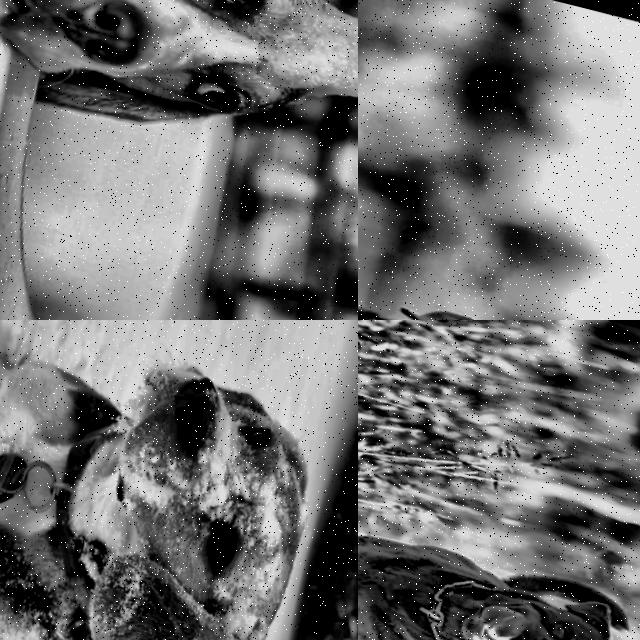beagle: (6, 320, 358, 640), (0, 0, 358, 204)
rottweiler: (399, 542, 640, 640), (358, 228, 580, 320)
